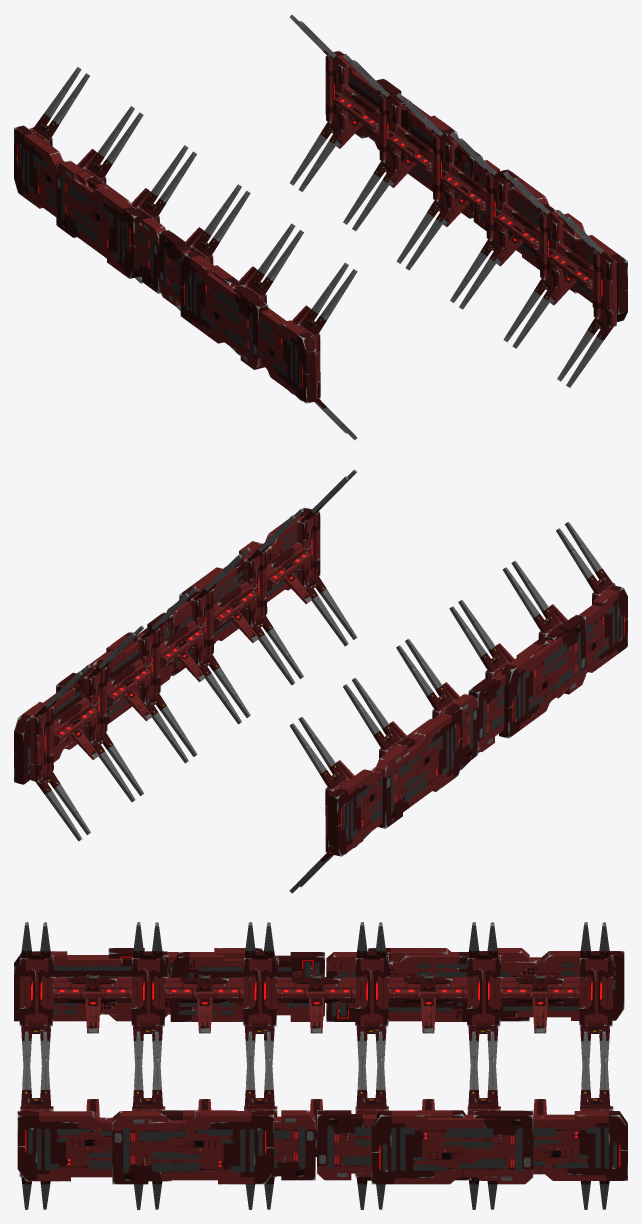
File: WarpGate29_sm.gltf
3 views of the same model, one above another, from view 1: azimuth 30°, elevation 25°; view 2: azimuth 150°, elevation 25°; view 3: azimuth 270°, elevation 25° (orthographic). The views are drawn at different scales.
Visible parts, largest first — view 1: WarpGate29; view 2: WarpGate29; view 3: WarpGate29.
Part boxes in pixels (x1,y1,x2,y2): WarpGate29: (14,15,627,440); WarpGate29: (14,469,627,893); WarpGate29: (14,922,627,1209).
Bounding box in the file's own units: 121 × 59.83 × 187.
1 material, 1 textured.
